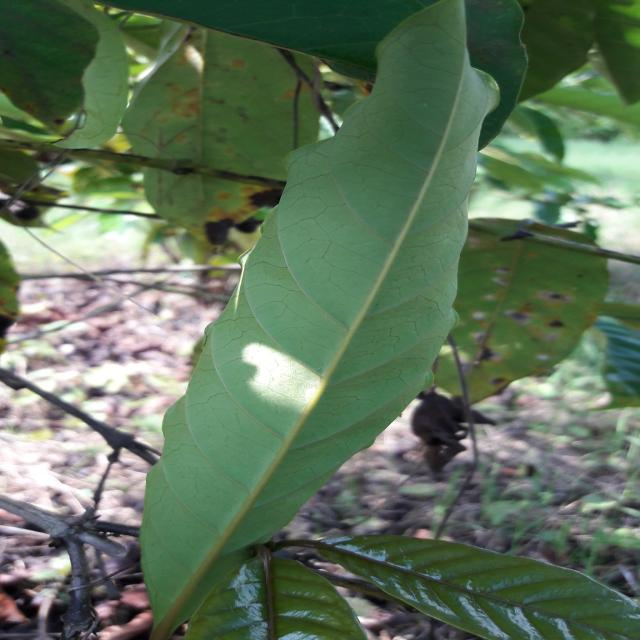Sanas: (138, 0, 501, 640)
